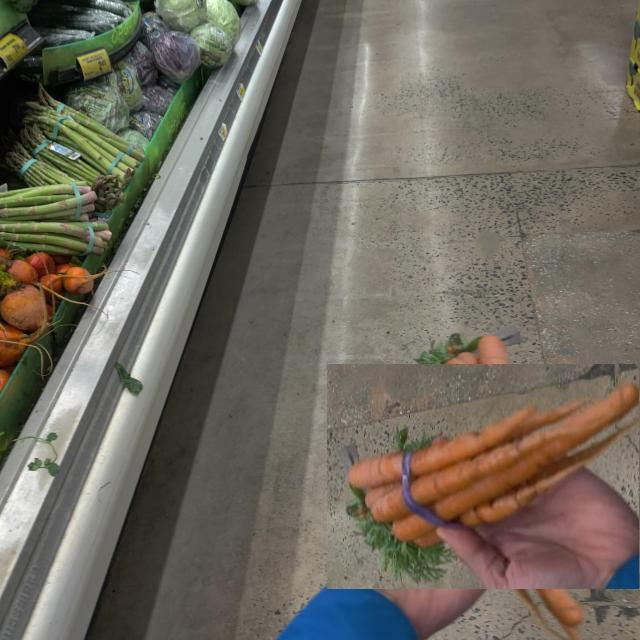Carrots: (327, 363, 640, 589)
